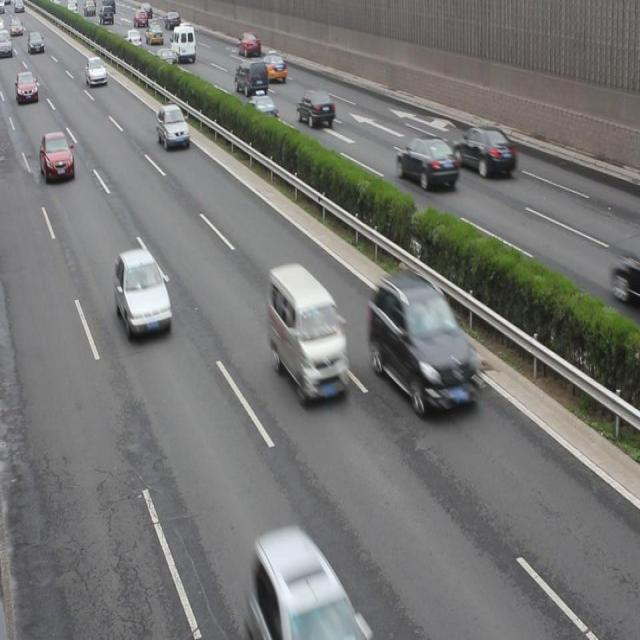car: (370, 274, 479, 416), (115, 249, 172, 338), (395, 138, 460, 190), (454, 127, 515, 178), (40, 132, 75, 182), (296, 90, 336, 128), (157, 106, 190, 148), (245, 92, 278, 124), (260, 52, 286, 82), (16, 72, 40, 104), (86, 58, 108, 87), (238, 32, 260, 55), (154, 49, 178, 70), (123, 28, 142, 50), (146, 22, 164, 44), (175, 21, 191, 37)
truck: (268, 263, 349, 407), (234, 58, 268, 96), (171, 28, 196, 64)
